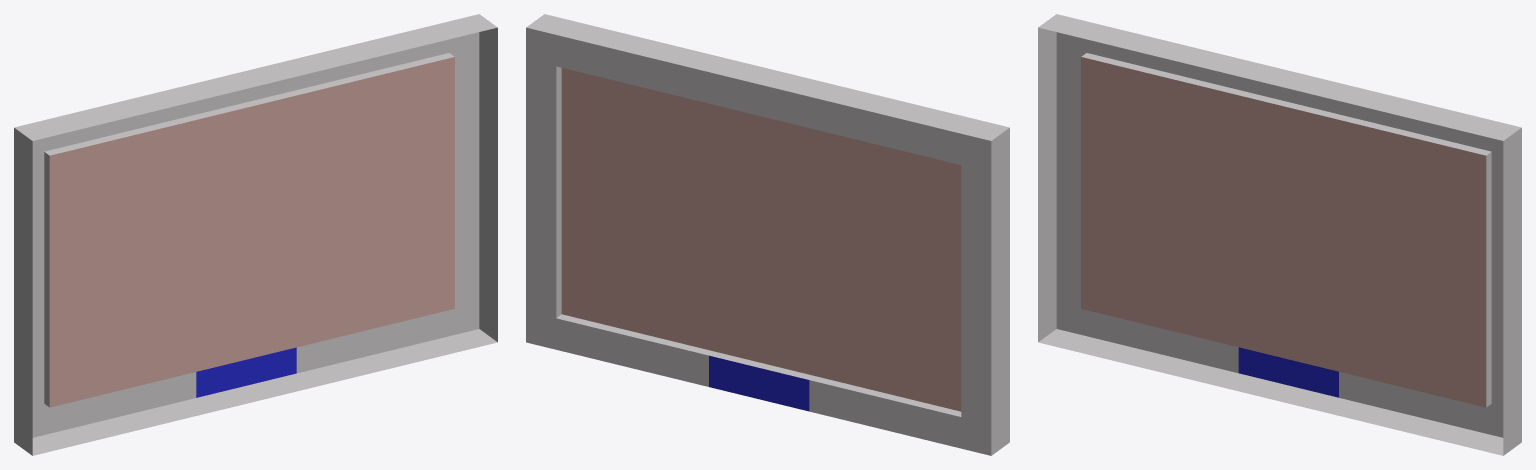
The model's file is PictureFrame.fbx.
The picture shows the model from 3 angles, left to right: view 1: azimuth 30°, elevation 25°; view 2: azimuth 150°, elevation 25°; view 3: azimuth 330°, elevation 25°; orthographic projection.
Parts seen in each view (by area): view 1: Picture, PictureFrame, PictureFrameLogo; view 2: Picture, PictureFrame, PictureFrameLogo; view 3: Picture, PictureFrame, PictureFrameLogo.
Boxes of the visible parts, bbox=[...] form: Picture: bbox=[49, 57, 454, 407]; PictureFrame: bbox=[14, 14, 497, 455]; PictureFrameLogo: bbox=[196, 347, 296, 397]; Picture: bbox=[561, 68, 961, 411]; PictureFrame: bbox=[526, 14, 1009, 455]; PictureFrameLogo: bbox=[709, 355, 809, 411]; Picture: bbox=[1081, 57, 1486, 407]; PictureFrame: bbox=[1038, 14, 1521, 455]; PictureFrameLogo: bbox=[1238, 347, 1338, 397].
Bounding box in the file's own units: 3.09 × 2 × 0.2132.
